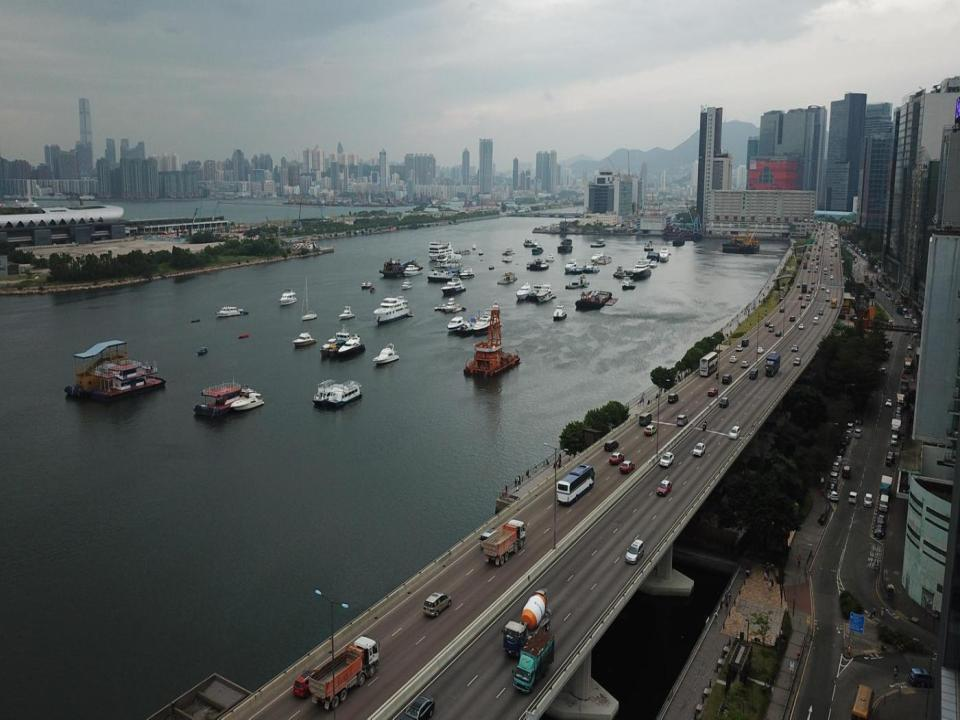bus: (556, 464, 595, 505), (699, 351, 719, 378)
car: (395, 695, 435, 719), (291, 670, 321, 699), (422, 590, 452, 618), (624, 538, 646, 566), (908, 667, 935, 687), (658, 451, 675, 468), (657, 477, 671, 497), (618, 459, 635, 474), (691, 441, 706, 458), (608, 450, 624, 465), (884, 449, 896, 468), (825, 488, 839, 502), (728, 424, 740, 440), (604, 439, 618, 452), (643, 422, 656, 436), (675, 414, 688, 427), (862, 492, 874, 506), (840, 464, 851, 478), (721, 373, 732, 386), (848, 490, 859, 503), (874, 524, 884, 538), (667, 393, 679, 404), (718, 396, 728, 409), (828, 471, 838, 484), (895, 405, 903, 420), (840, 434, 851, 444), (837, 442, 848, 452), (876, 514, 884, 527), (846, 421, 854, 434), (728, 354, 738, 364), (734, 342, 744, 352), (830, 462, 840, 472), (834, 452, 843, 463), (792, 356, 801, 366), (707, 388, 717, 397), (889, 434, 897, 445), (740, 359, 749, 368), (885, 398, 893, 408), (844, 428, 852, 437), (757, 346, 765, 354), (791, 344, 799, 352), (854, 428, 862, 436), (788, 314, 795, 322), (812, 316, 819, 324), (778, 306, 785, 313), (764, 319, 770, 327), (798, 322, 804, 330), (818, 306, 823, 315), (800, 301, 805, 309), (775, 330, 781, 336), (806, 292, 810, 300), (799, 293, 803, 300), (826, 287, 830, 294), (821, 285, 824, 291), (826, 297, 830, 301)
truck: (308, 632, 380, 710), (501, 586, 555, 659), (510, 627, 558, 696), (483, 517, 528, 566), (764, 352, 781, 376), (879, 474, 892, 503), (890, 418, 902, 442), (894, 393, 907, 413), (831, 296, 837, 308), (802, 282, 807, 294)
van: (851, 682, 874, 719), (478, 526, 496, 549), (879, 493, 889, 512), (638, 412, 652, 425), (748, 366, 759, 381), (741, 338, 750, 347)
